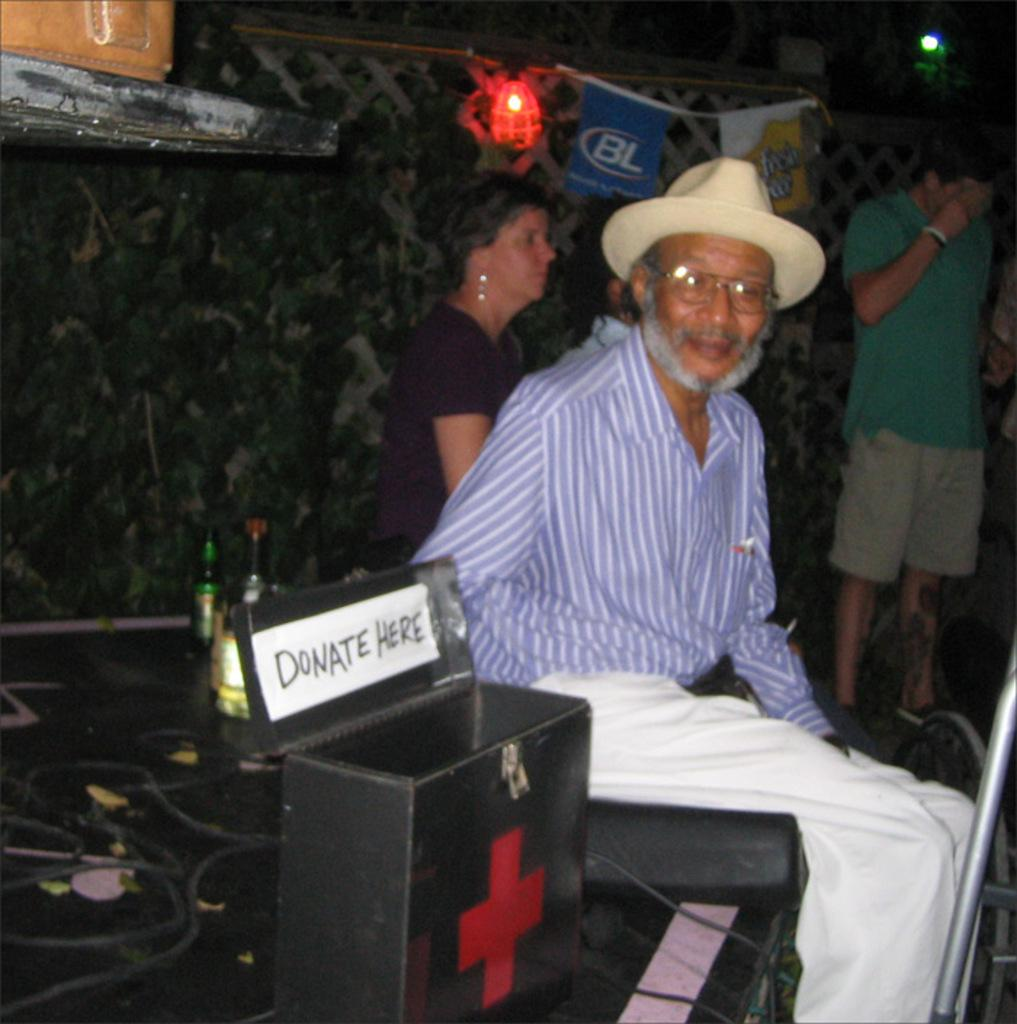Hat: (598, 158, 823, 312)
